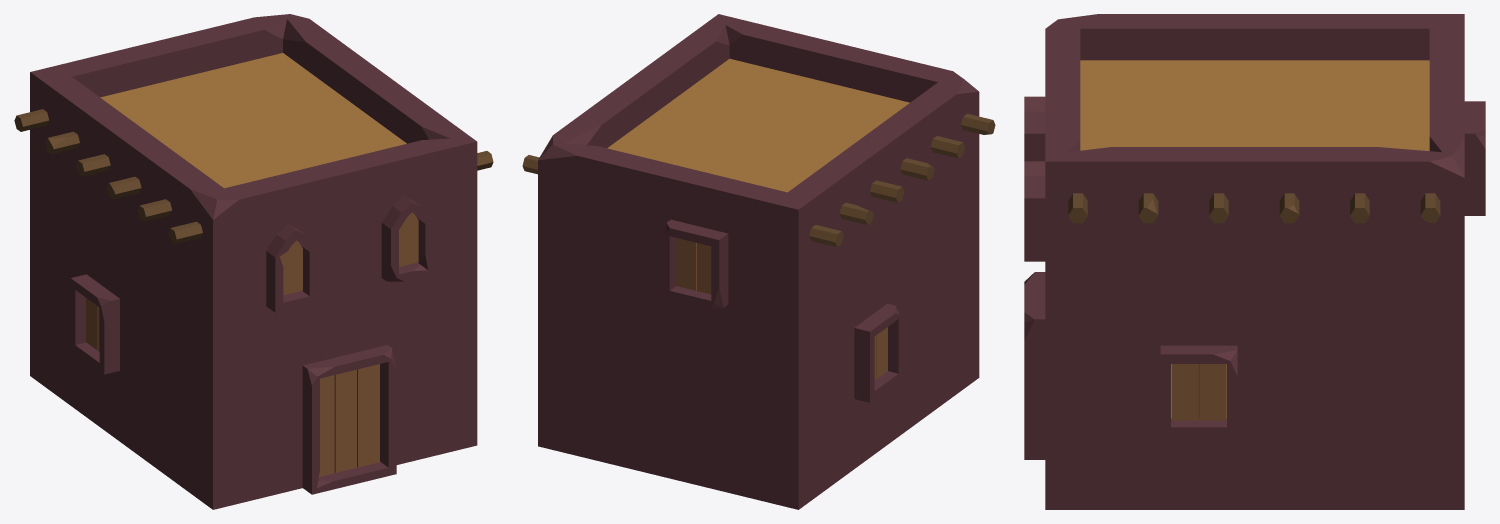
The model's file is house-egypt-small.fbx.
3 views of the same model, side by side, from view 1: azimuth 30°, elevation 25°; view 2: azimuth 150°, elevation 25°; view 3: azimuth 270°, elevation 25° (orthographic). The views are drawn at different scales.
Parts seen in each view (by area): view 1: house-egypt-small; view 2: house-egypt-small; view 3: house-egypt-small.
Boxes of the visible parts, x1,y1,x2,y2 form: house-egypt-small: (14,14,493,509); house-egypt-small: (522,14,995,509); house-egypt-small: (1024,14,1485,509).
Bounding box in the file's own units: 6 × 5.5 × 6.6.
